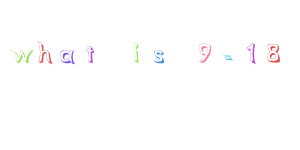-: (222, 51, 234, 64)
1: (245, 40, 257, 64)
8: (265, 42, 281, 63)
9: (197, 41, 212, 64)
a: (58, 47, 76, 65)
h: (36, 40, 53, 64)
i: (130, 41, 141, 64)
s: (153, 48, 165, 63)
t: (84, 45, 97, 63)
w: (10, 46, 34, 64)
